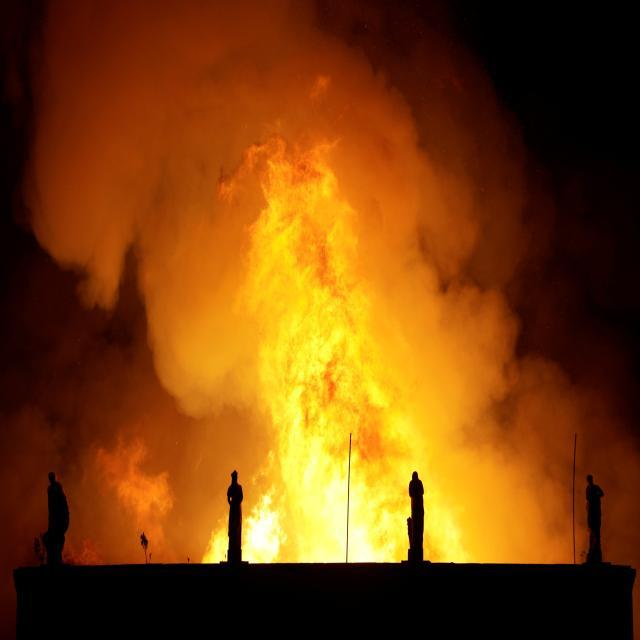Fire: (248, 125, 404, 560)
Smoke: (2, 6, 246, 442), (408, 106, 624, 460)
